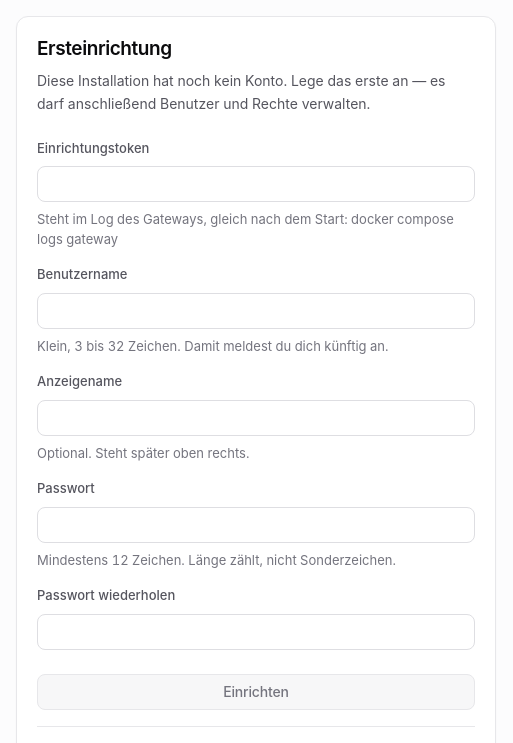
it: Einrichtungsmaske › zeigt die Meldung des Backends, statt sie zu verschlucken
Type "xYz-ein-langes-einrichtungstoken-aus-dem-log" into the field labelled "Einrichtungstoken".
click(256, 184); type("xYz-ein-langes-einrichtungstoken-aus-dem-log")  # box left=37, top=166, right=475, bottom=202
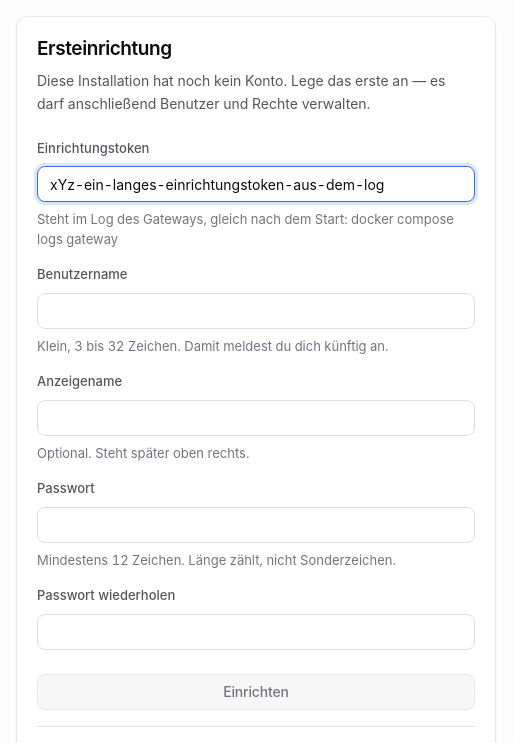
Type "aaron" into the field labelled "Benutzername".
click(256, 311); type("aaron")  # box left=37, top=293, right=475, bottom=329
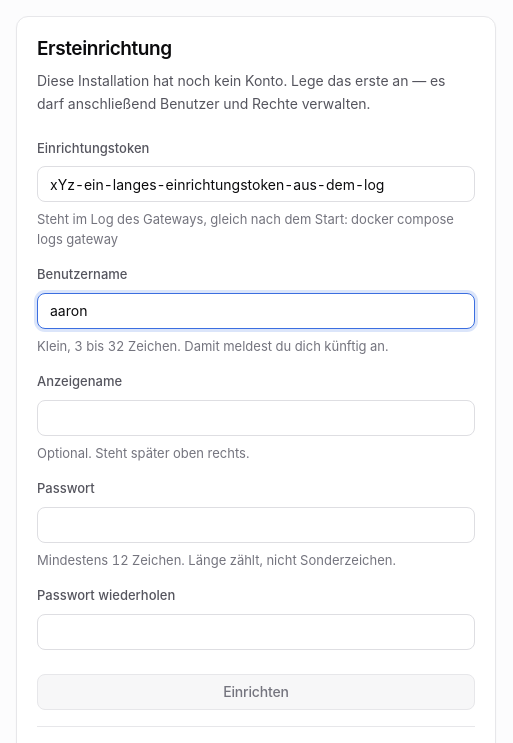
Type "korrekt-pferd-batterie" into the password field labelled "Passwort".
click(256, 525); type("korrekt-pferd-batterie")  # box left=37, top=507, right=475, bottom=543
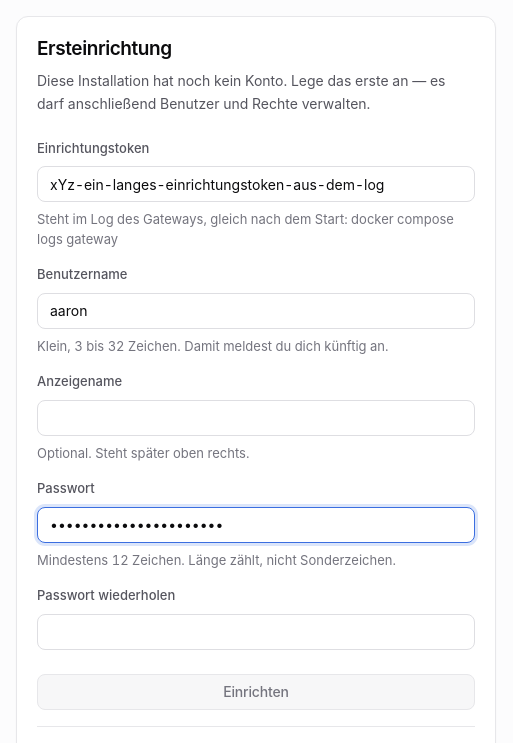
Type "korrekt-pferd-batterie" into the password field labelled "Passwort wiederholen".
click(256, 632); type("korrekt-pferd-batterie")  # box left=37, top=614, right=475, bottom=650
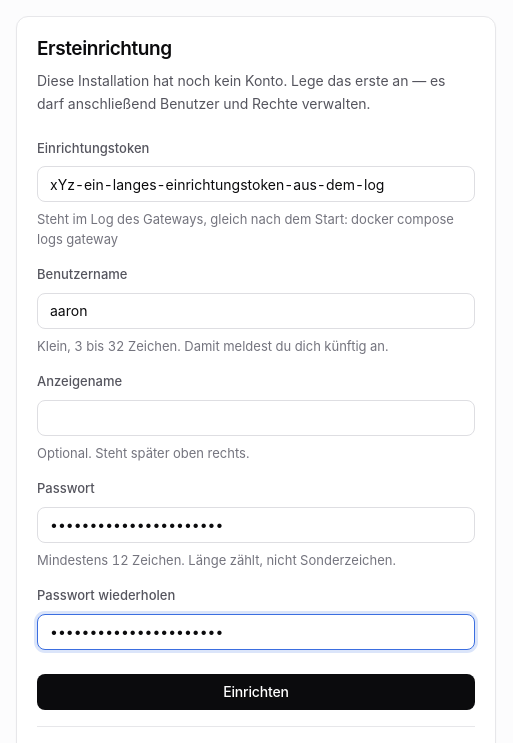
Click the button "Einrichten".
click(256, 692)  # box left=37, top=674, right=475, bottom=710
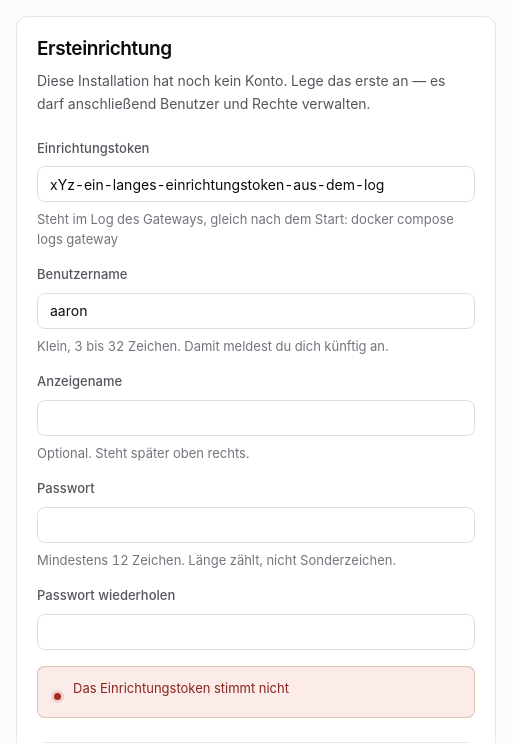
Check: the message shows "stimmt nicht", box left=73, top=680, right=289, bottom=696
